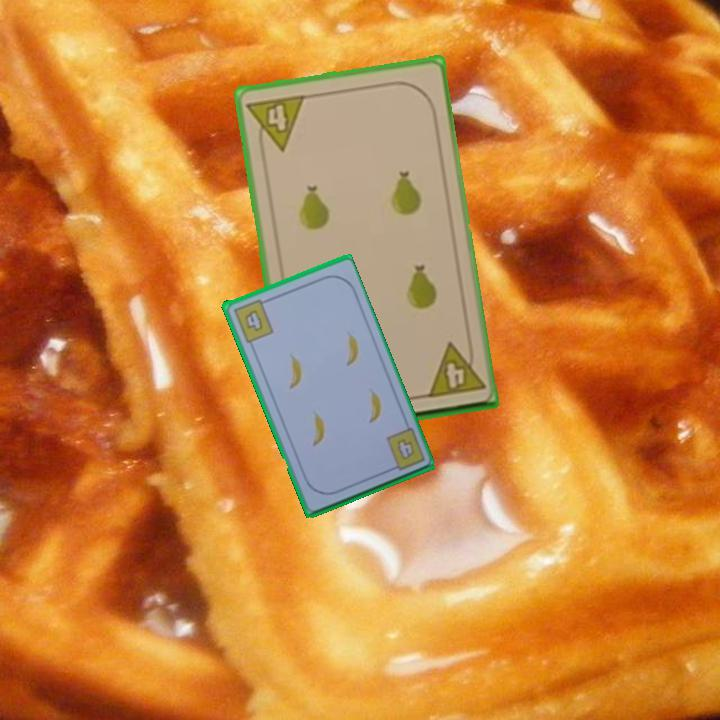4b: (229, 295, 276, 345), (393, 435, 417, 463)
4p: (243, 91, 308, 157), (423, 337, 487, 401)
